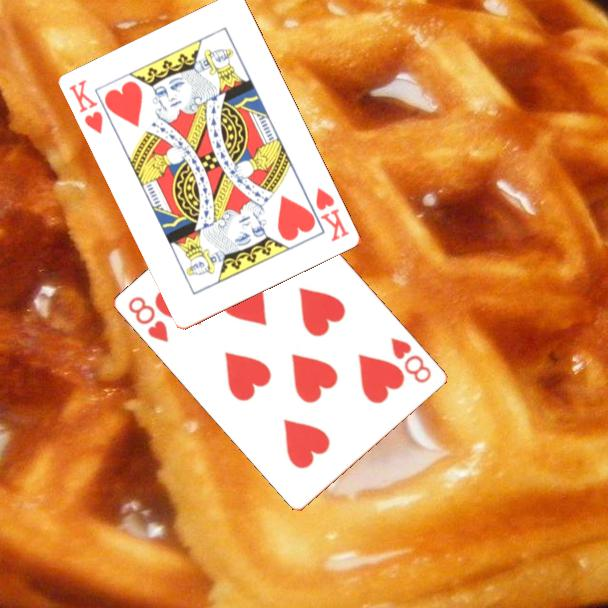h08: (388, 334, 435, 386), (125, 293, 172, 345)
h13: (312, 184, 353, 245), (66, 76, 106, 137)
